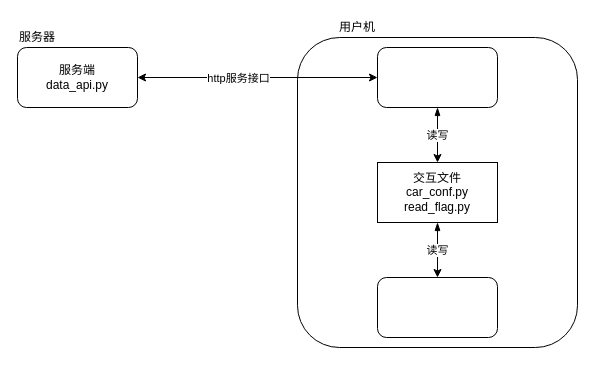
Image size: 595x365. Some labels were removed from this diagram. The shapes that lost their labels are listed below. From the top down, each one's centre as x and y in pixels, then its label:
At (x=437, y=77): "客户端（后台运行） WebParaClient.py".
At (x=437, y=307): "应用程序（子线程） demo.py".
